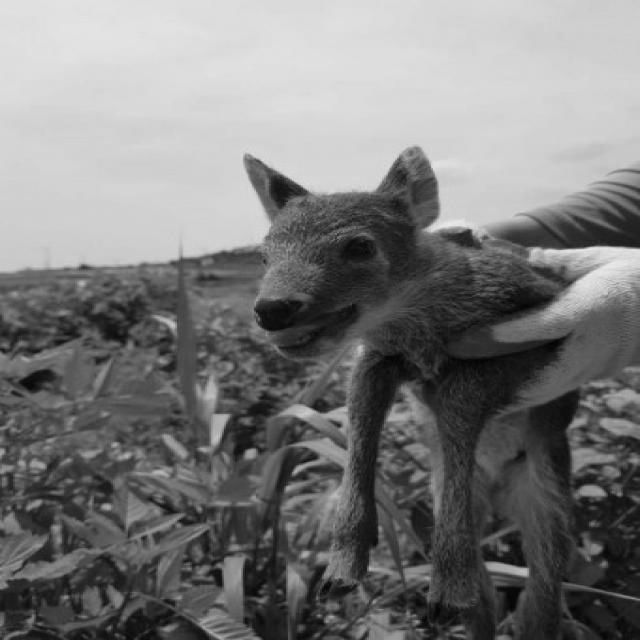Deer: (192, 128, 596, 636)
